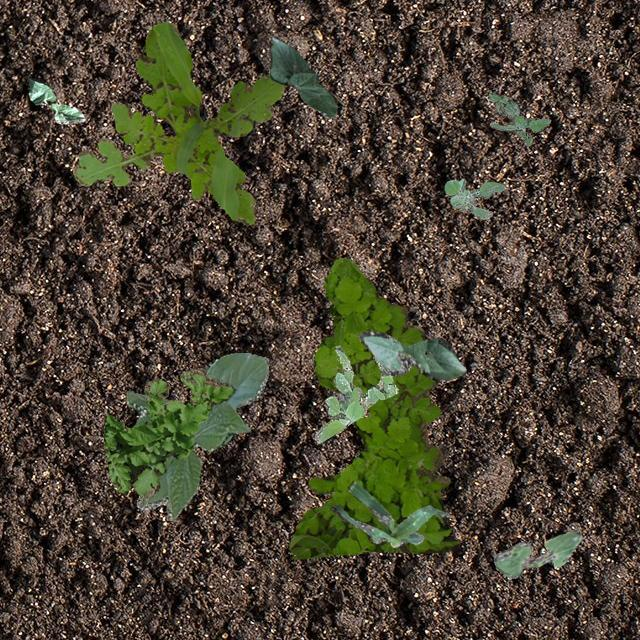crop: (125, 352, 268, 520), (332, 481, 446, 546), (358, 328, 466, 381), (268, 36, 336, 118), (492, 528, 582, 578), (26, 78, 84, 122)
weed: (288, 256, 458, 558), (72, 22, 284, 225), (102, 367, 234, 498), (314, 344, 396, 442), (488, 90, 550, 144), (444, 178, 504, 218)
